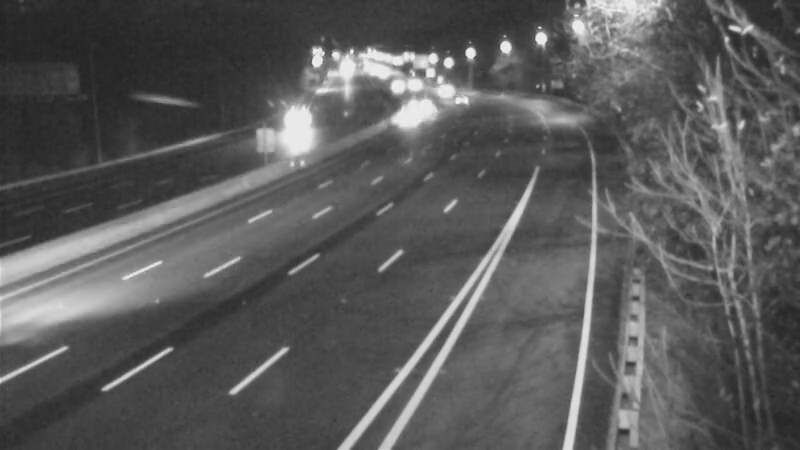vehicle: (369, 60, 419, 110), (390, 59, 440, 109), (419, 63, 469, 113), (436, 73, 486, 123), (382, 93, 432, 143), (271, 90, 321, 140)
